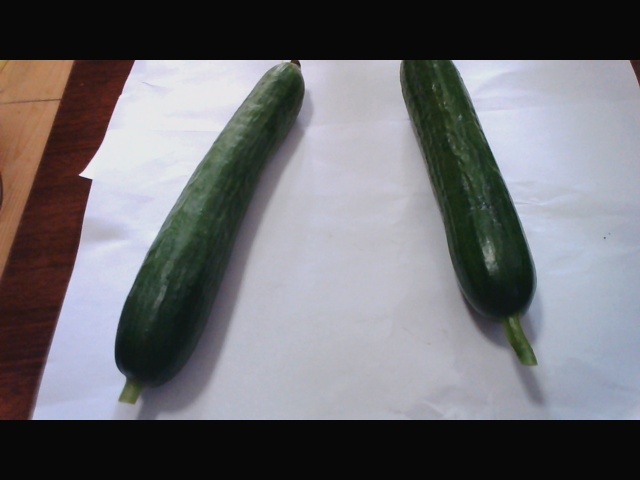cucumber: (115, 60, 312, 393), (395, 60, 556, 358)
